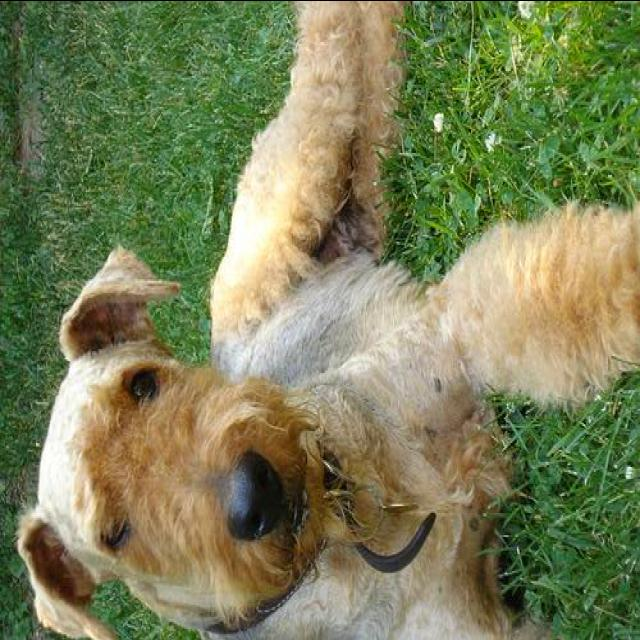airedale: (15, 1, 638, 636)
